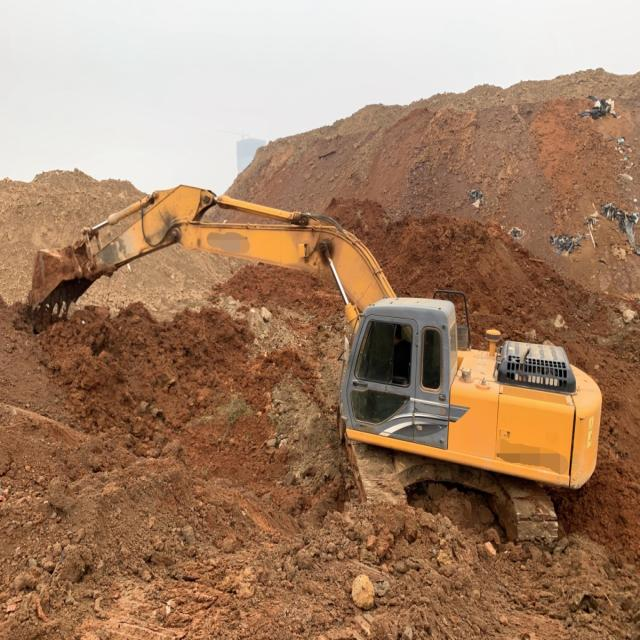excavator: (28, 184, 602, 550)
